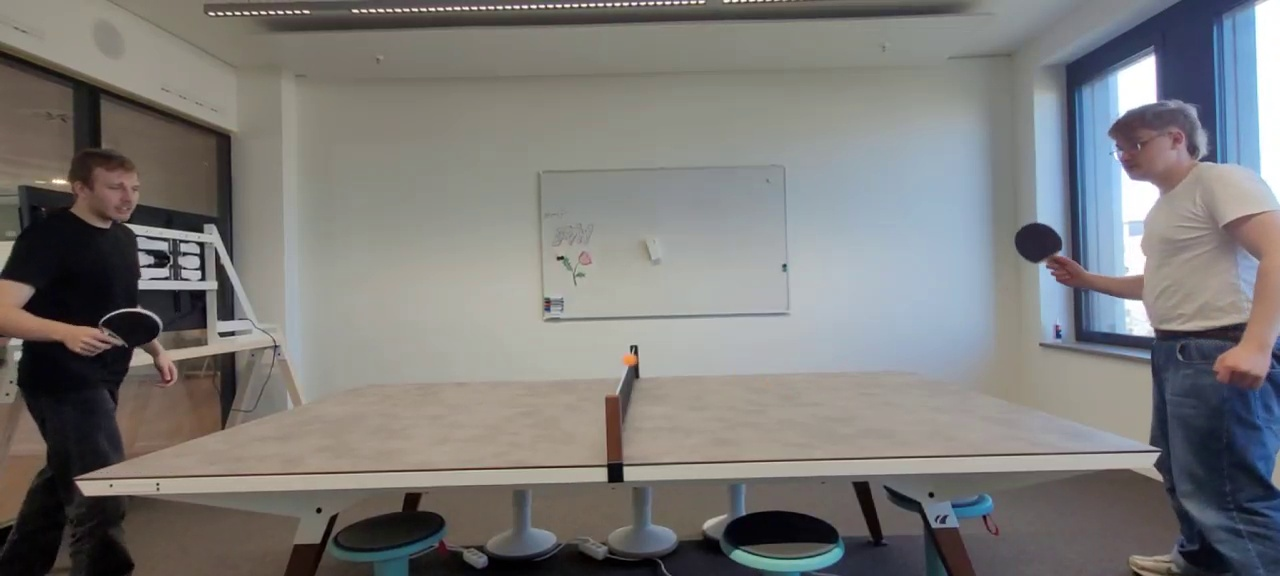plate: (75, 369, 1159, 480)
racket: (99, 309, 162, 348), (1014, 224, 1062, 263)
ttball: (624, 355, 635, 364)
